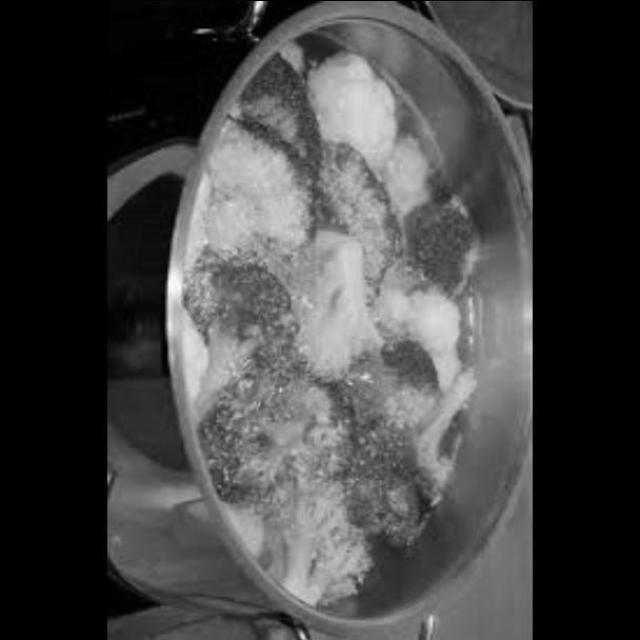broccoli: (211, 102, 488, 518), (272, 462, 379, 614)
cauliflower: (312, 41, 410, 165), (381, 275, 470, 386), (385, 112, 436, 216)
